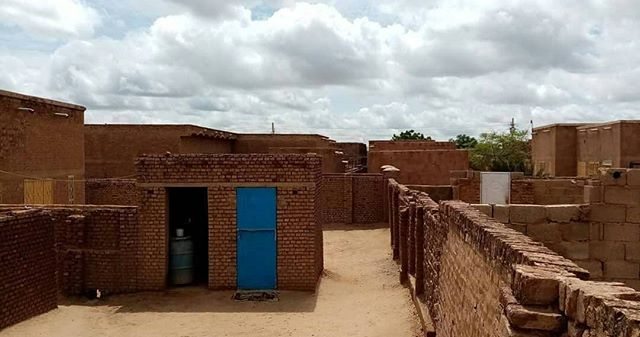building: (131, 148, 323, 299), (86, 119, 327, 204), (1, 92, 91, 210), (528, 118, 640, 193), (362, 134, 476, 198)
door: (234, 184, 273, 293)
sky: (1, 1, 633, 117)
